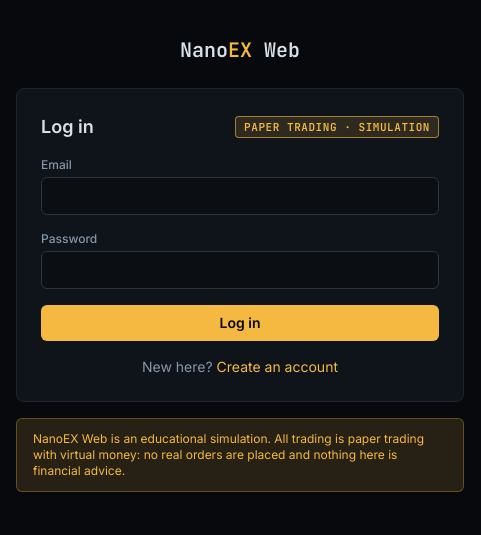
Test: Login page › shows the API error message on failure
Type "a@b.com" into the field labelled "Email".
click(240, 196); type("a@b.com")  # box top-left (41, 177), bottom-right (439, 215)
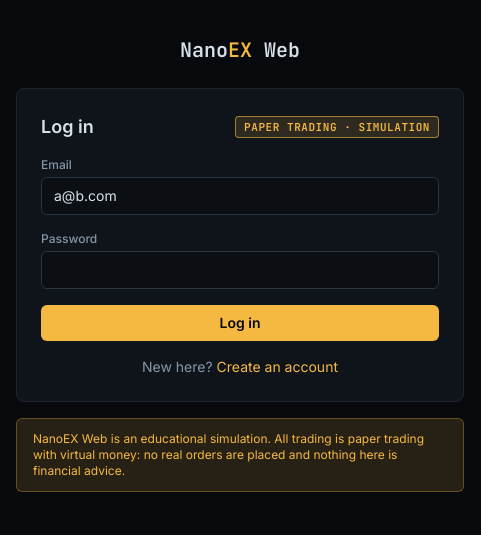
Type "secret123" into the password field labelled "Password".
click(240, 270); type("secret123")  # box top-left (41, 251), bottom-right (439, 289)
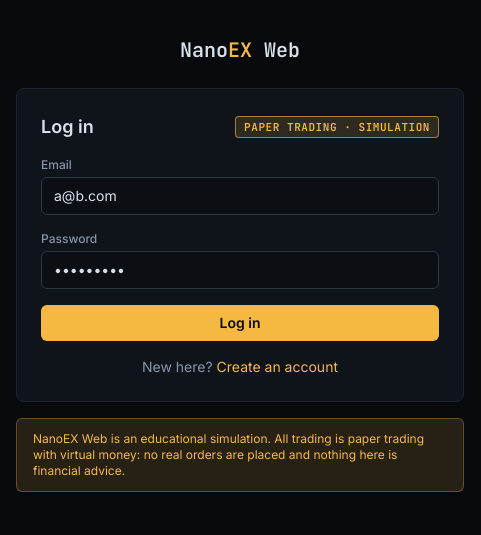
Click the button "Log in".
click(240, 323)  # box top-left (41, 305), bottom-right (439, 341)
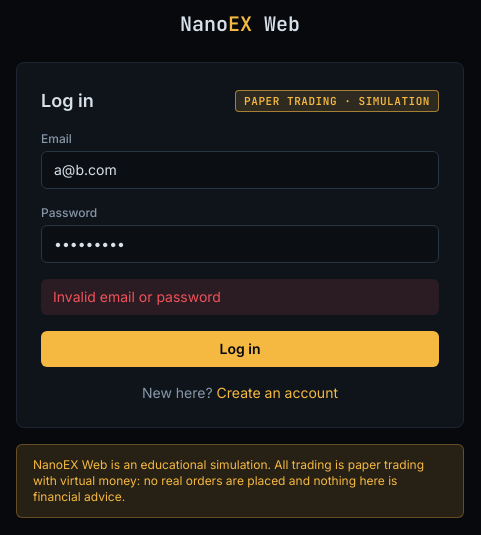
Now the text "Invalid email or password" is shown, box top-left (41, 279), bottom-right (439, 315)
